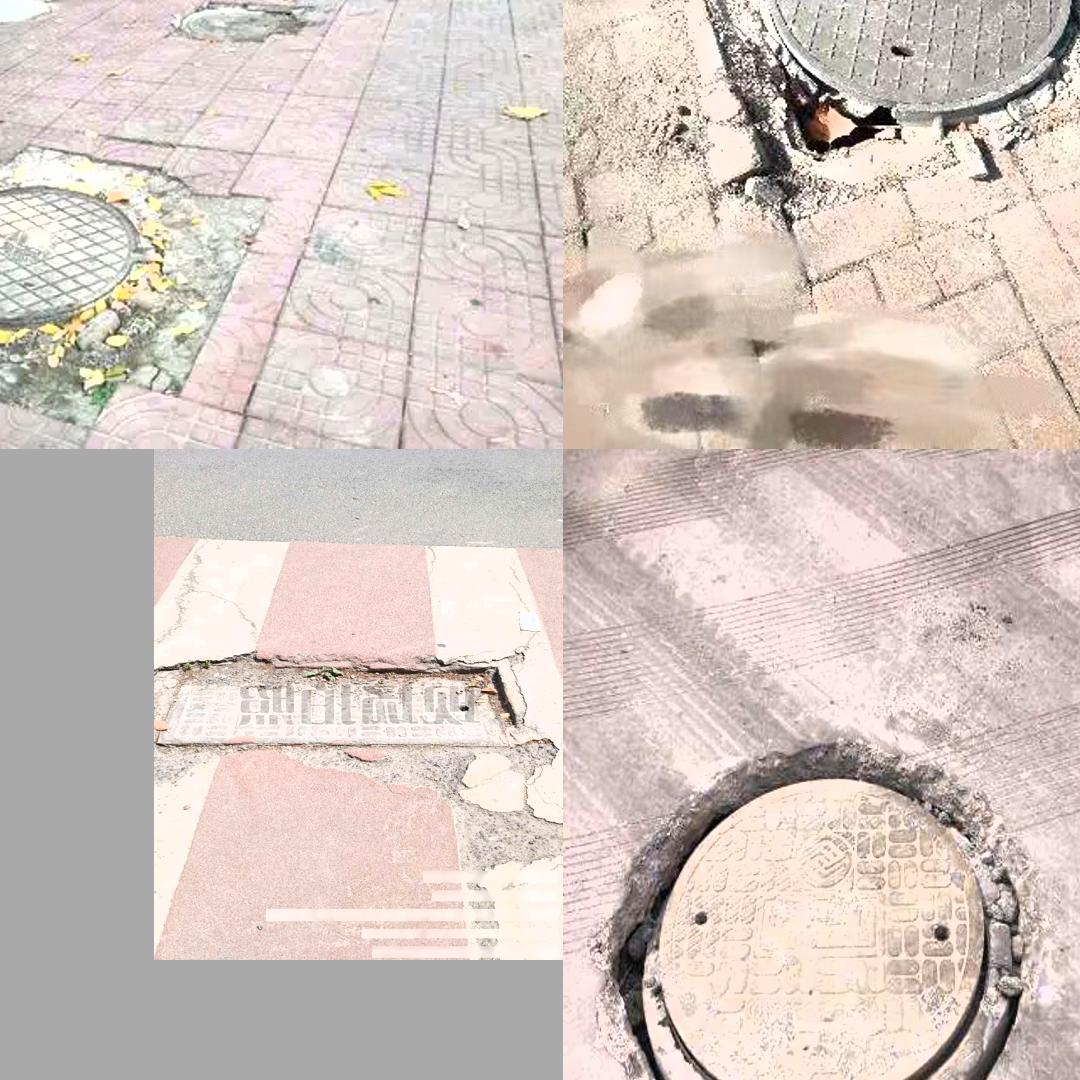circle: (612, 744, 1033, 1080), (0, 144, 249, 418), (702, 0, 1080, 148), (154, 661, 529, 751)
